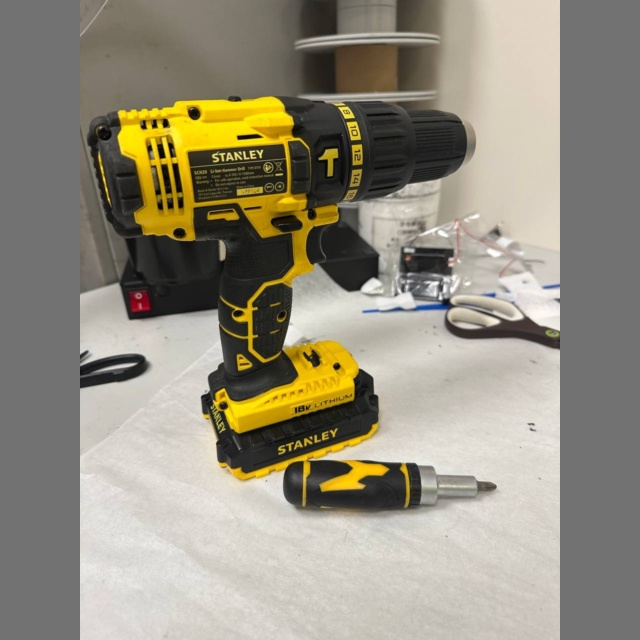drill: (94, 96, 476, 480)
scissor: (445, 295, 560, 348), (80, 354, 149, 388)
screwdriver: (283, 459, 496, 509)
